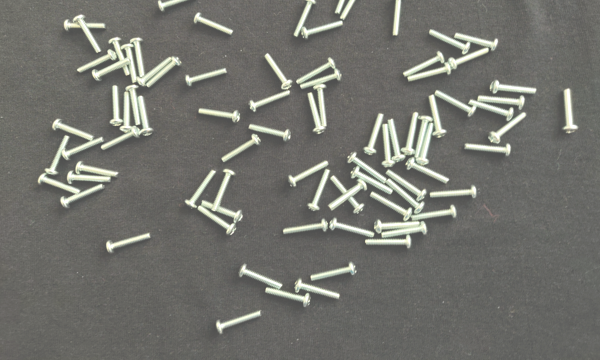longscrew: (329, 174, 366, 216), (385, 167, 428, 201), (184, 167, 217, 211), (434, 88, 479, 120), (369, 191, 414, 223), (386, 178, 426, 214), (346, 150, 389, 183), (488, 111, 529, 145), (349, 165, 394, 195), (404, 156, 451, 184), (60, 183, 107, 211), (196, 204, 237, 236), (426, 27, 472, 55), (328, 179, 368, 211), (263, 285, 314, 310), (73, 13, 103, 55), (216, 309, 264, 335), (287, 159, 330, 188), (238, 263, 284, 290), (295, 57, 339, 85), (221, 134, 263, 163), (145, 57, 183, 89), (402, 51, 447, 78), (105, 231, 153, 256), (136, 56, 174, 87), (293, 278, 342, 302), (199, 199, 244, 225), (61, 137, 106, 163), (307, 168, 332, 214), (43, 135, 71, 176), (211, 168, 237, 212), (100, 126, 144, 152), (263, 52, 293, 90), (193, 11, 235, 38), (467, 98, 515, 121), (328, 217, 376, 240), (248, 88, 292, 113), (75, 48, 117, 74), (453, 30, 499, 53), (448, 46, 492, 70), (427, 93, 449, 141), (51, 118, 95, 142), (362, 112, 385, 157), (305, 90, 327, 137), (309, 262, 358, 283), (292, 0, 318, 39), (38, 173, 82, 196), (92, 57, 132, 82), (248, 122, 293, 144), (488, 78, 537, 98), (560, 87, 580, 136), (301, 19, 345, 41), (407, 62, 453, 83), (386, 118, 407, 163), (413, 115, 434, 160), (415, 121, 436, 166), (108, 37, 131, 78), (299, 69, 343, 90), (476, 94, 527, 112), (463, 142, 513, 160), (401, 111, 421, 156), (411, 204, 460, 222), (281, 219, 330, 237), (184, 68, 228, 88), (197, 106, 242, 125), (75, 160, 120, 179), (380, 221, 429, 238), (312, 83, 330, 129), (62, 18, 107, 36), (125, 83, 143, 128), (429, 185, 479, 201), (364, 235, 414, 251), (137, 94, 155, 138), (373, 218, 422, 234), (380, 122, 396, 170), (66, 170, 112, 186), (129, 36, 146, 79), (121, 43, 139, 83), (390, 0, 408, 38), (119, 91, 135, 133), (109, 84, 124, 128), (340, 0, 369, 22), (157, 0, 200, 14), (334, 0, 359, 16)
